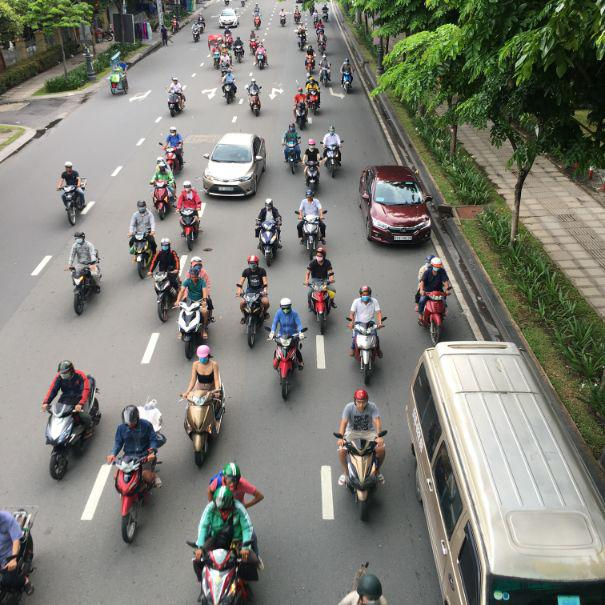car: (404, 335, 605, 605), (358, 164, 435, 249), (203, 134, 269, 200), (219, 11, 239, 28)
motorbike: (112, 453, 164, 545), (45, 398, 97, 480), (336, 433, 382, 519), (194, 541, 253, 604), (183, 389, 226, 467), (177, 295, 215, 359), (272, 336, 306, 400), (351, 319, 386, 380), (235, 285, 270, 345), (416, 287, 449, 344), (72, 265, 102, 317), (256, 210, 285, 262), (129, 234, 160, 282), (306, 281, 337, 326), (153, 273, 179, 324), (59, 181, 87, 228), (296, 214, 326, 257), (151, 181, 175, 222), (180, 210, 202, 240), (169, 88, 187, 115)
